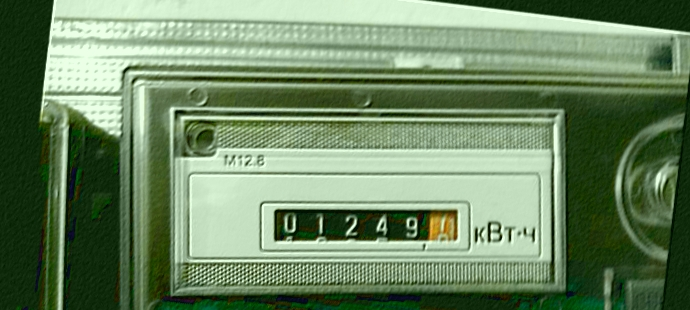0: (278, 209, 300, 237)
1: (310, 212, 328, 239)
2: (340, 213, 363, 242)
4: (372, 211, 393, 240)
7: (433, 211, 451, 236)
9: (401, 215, 422, 242)
screen: (247, 181, 488, 283)
